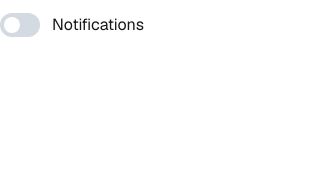
Scenario: Switch › toggles and reports
What coordinates should you click on to do the following:
click the switch named "Notifications"
I would click on:
 (20, 25)
Its box is x1=0 y1=13 x2=40 y2=37.
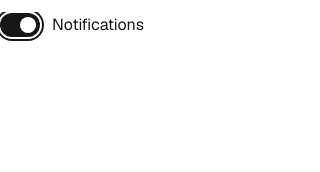
expect the switch named "Notifications" is checked: met, box x1=0 y1=13 x2=40 y2=37
